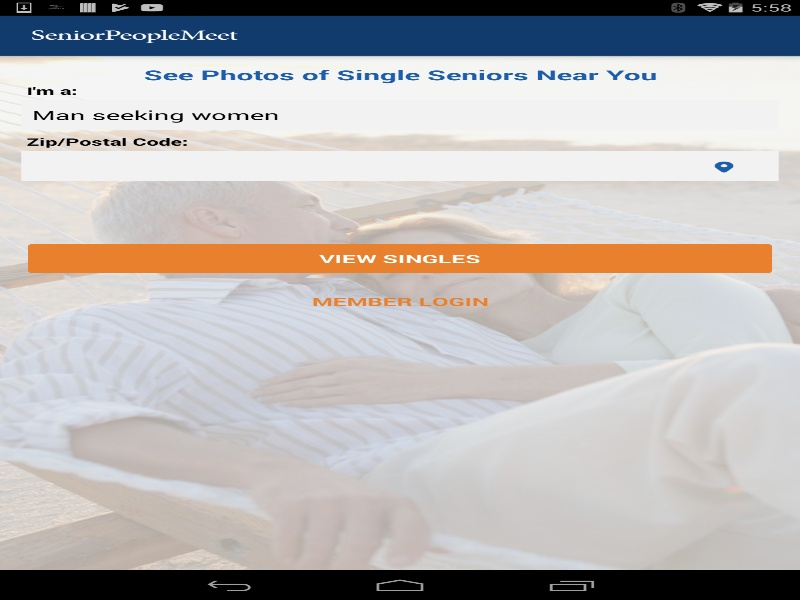Button: (21, 240, 778, 276), (21, 283, 778, 319), (670, 152, 778, 182)
Input: (21, 150, 562, 180)
